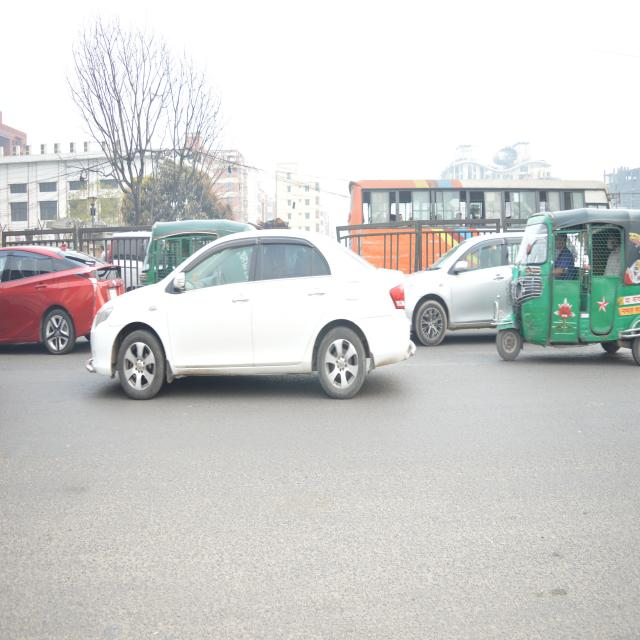bus: (343, 168, 618, 272)
car: (86, 229, 407, 410), (406, 233, 539, 354), (0, 241, 120, 351)
